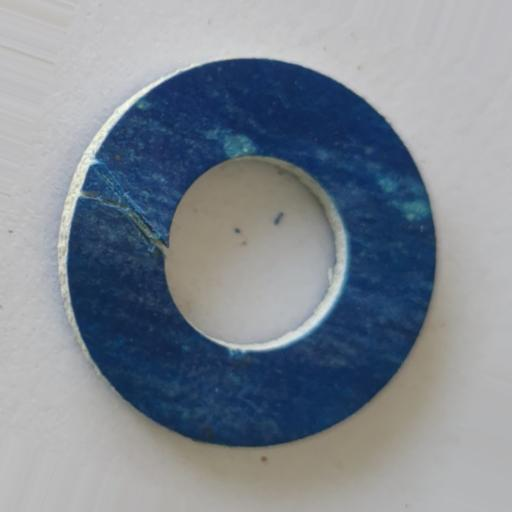defect: (79, 156, 169, 258)
